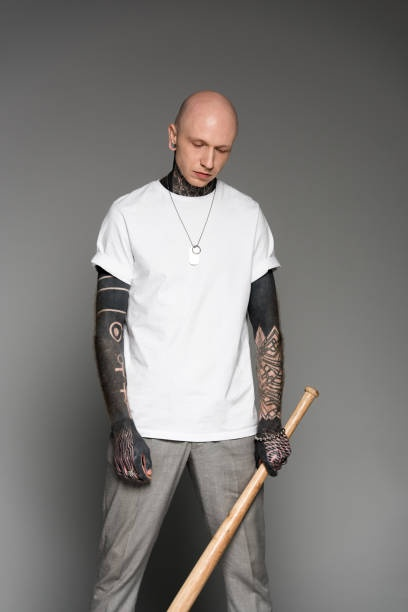bita: (167, 384, 320, 612)
